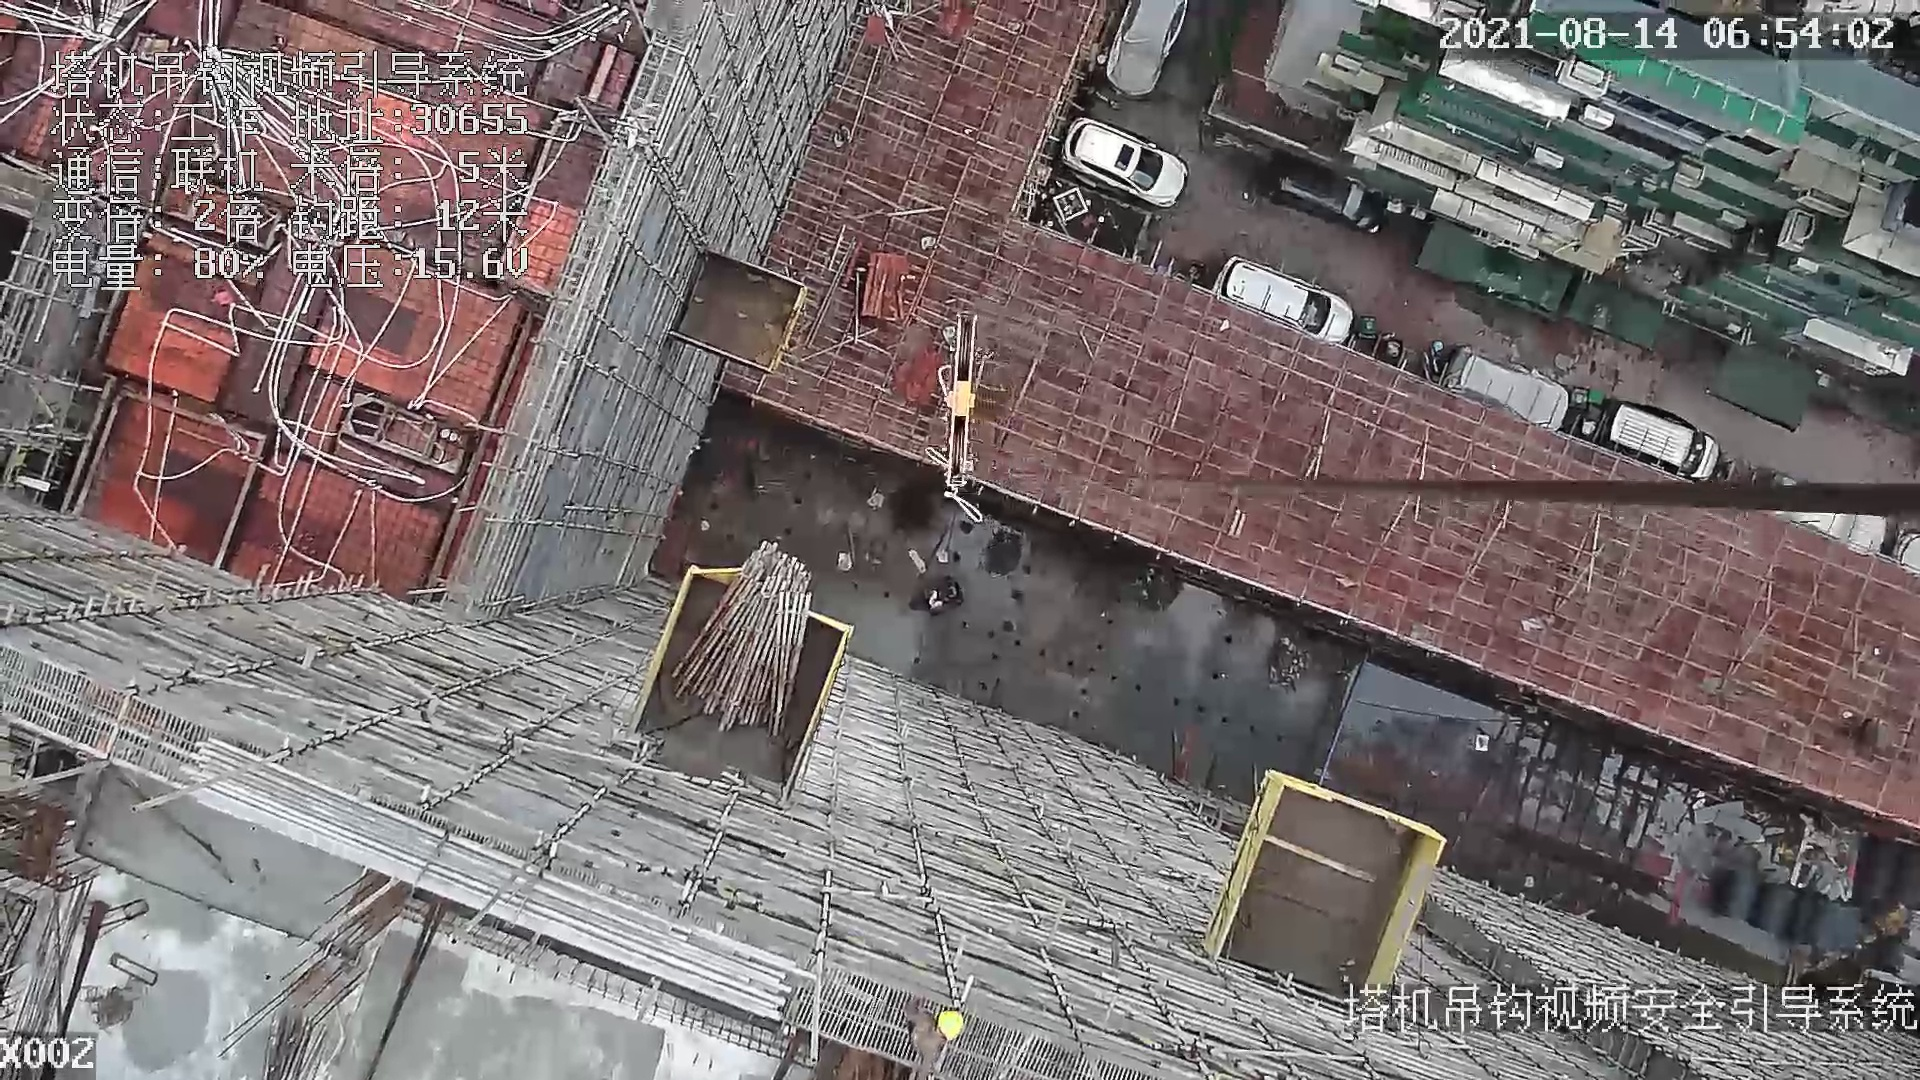helmet: (939, 1010, 963, 1040)
hook: (931, 315, 979, 506)
person: (897, 990, 967, 1080)
rebar: (181, 742, 793, 1019)
scaffold: (674, 540, 811, 735)
